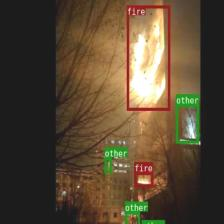fire: (126, 5, 170, 110), (134, 172, 152, 186)
